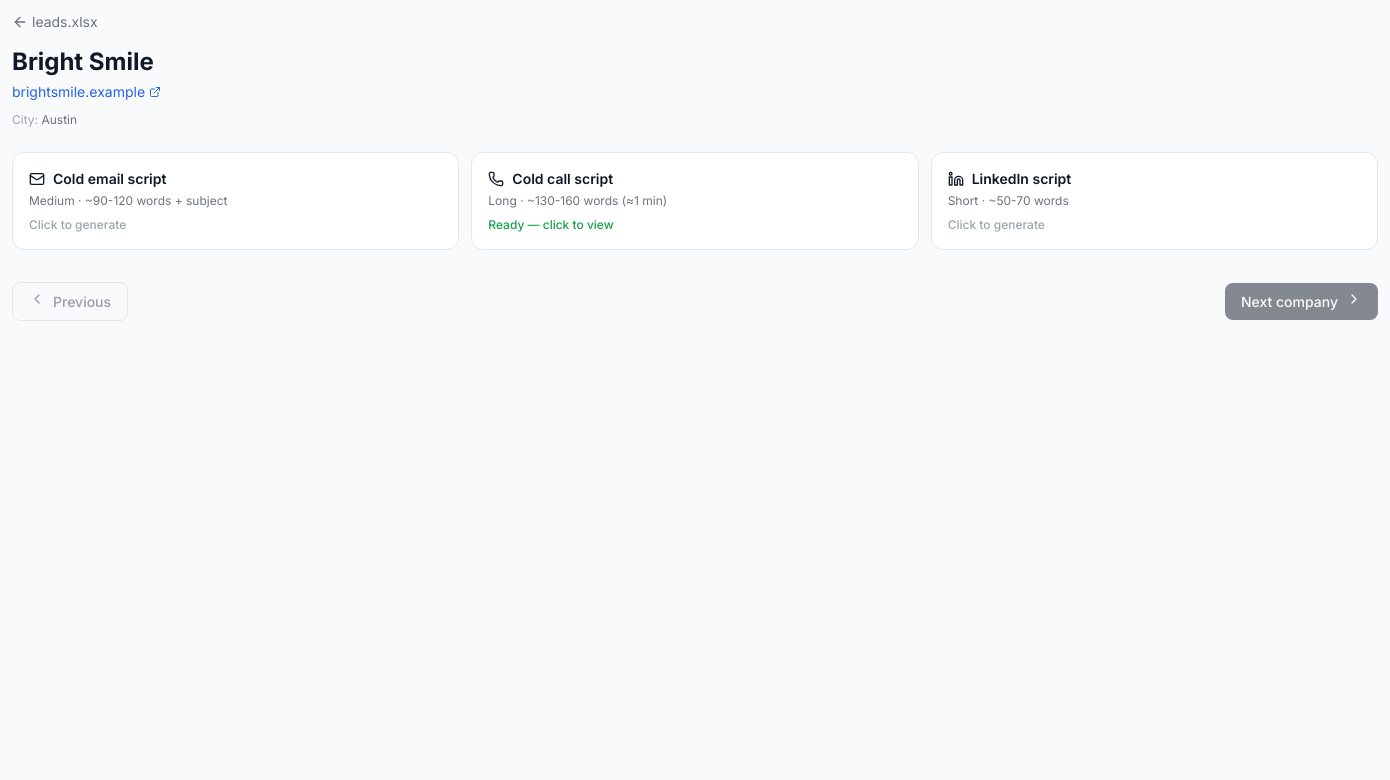
Test case: C — CompanyScripts › labels an industry-based script so the user knows it was not seen on the website
The width and height of the screenshot is (1390, 780).
Click the button with test id "generate-cold_call": x=563, y=179 x1=471 y1=152 x2=919 y2=250
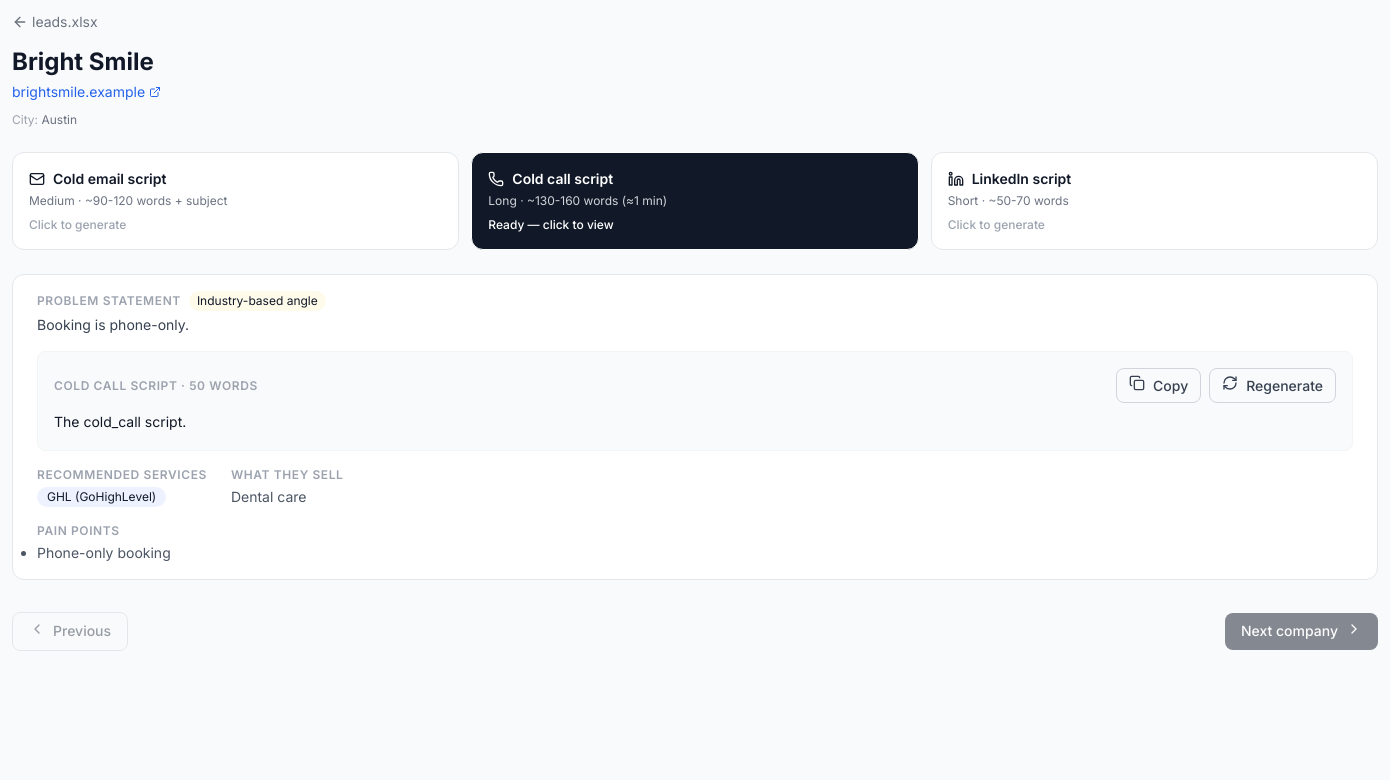
Expected: the text with test id "angle-badge" reads "Industry-based angle", x1=197 y1=293 x2=318 y2=308
